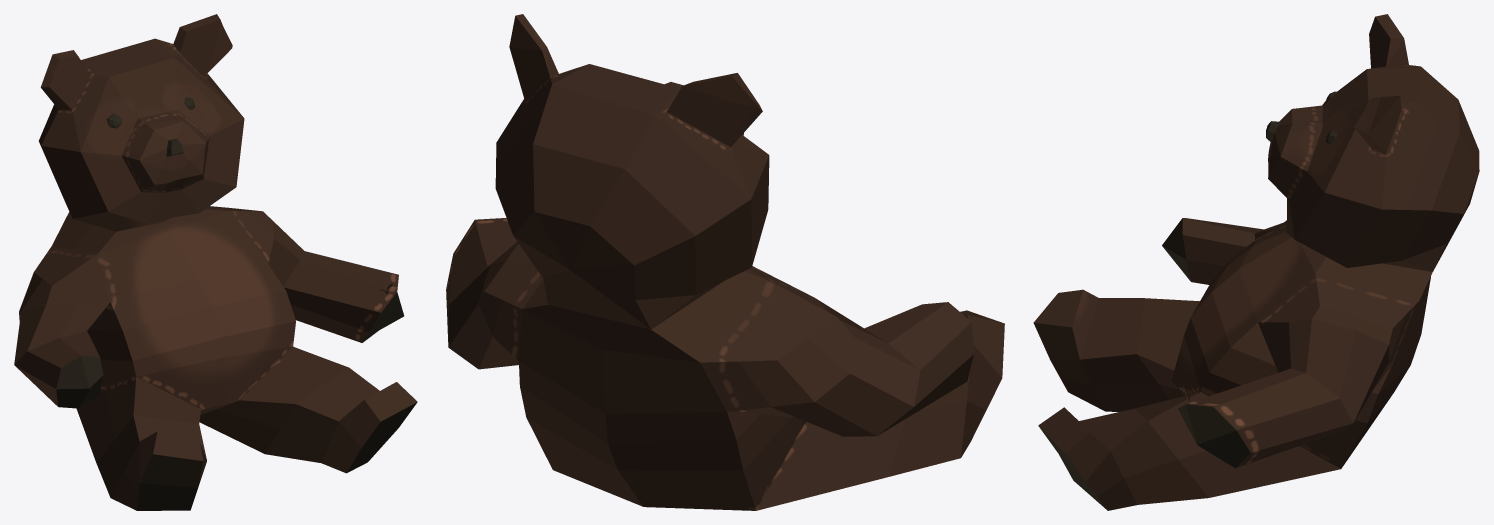
The model's file is Teddybear.fbx.
3 renders of one model, left to right at view 1: azimuth 30°, elevation 25°; view 2: azimuth 150°, elevation 25°; view 3: azimuth 270°, elevation 25°, orthographic. The views are drawn at different scales.
Parts seen in each view (by area): view 1: Teddy; view 2: Teddy; view 3: Teddy.
Part boxes in pixels (x1,y1,x2,y2): Teddy: (14,14,417,510); Teddy: (446,14,1004,510); Teddy: (1033,14,1479,510).
Bounding box in the file's own units: 444 × 430 × 435.
2 materials, 1 textured.
